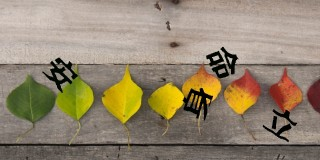命: (205, 46, 238, 80)
安: (41, 56, 78, 93)
立: (264, 107, 298, 143)
身: (182, 87, 213, 122)
